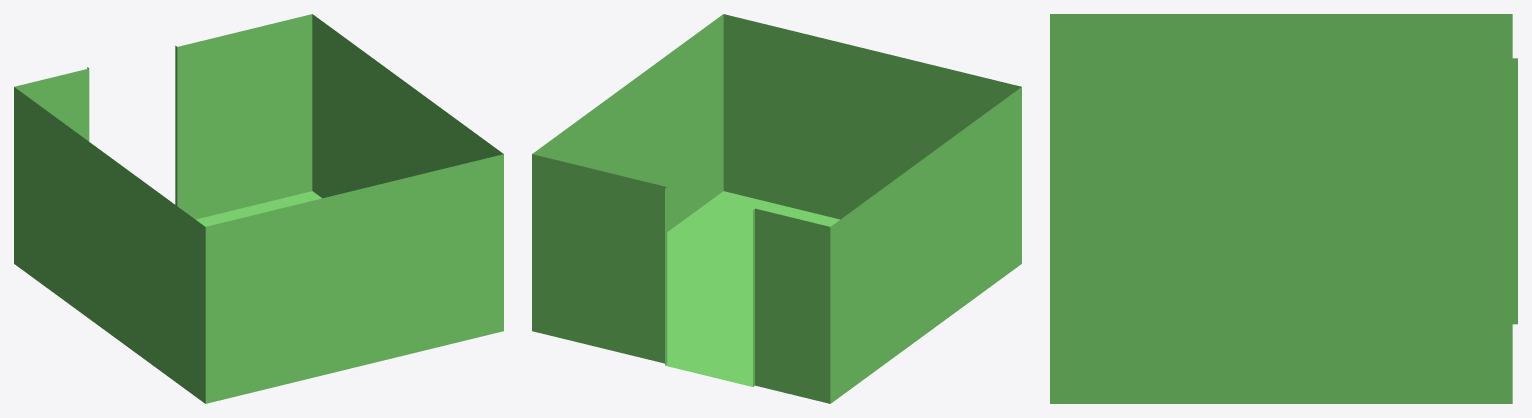
Rendered from rooms3_0.glb.
The picture shows the model from 3 angles, left to right: view 1: azimuth 30°, elevation 25°; view 2: azimuth 150°, elevation 25°; view 3: azimuth 270°, elevation 25°; orthographic projection. The views are drawn at different scales.
Parts seen in each view (by area): view 1: Cube.021; view 2: Cube.021; view 3: Cube.021.
Part boxes in pixels (x1=…): Cube.021: x1=14, y1=14, x2=503, y2=403; Cube.021: x1=532, y1=14, x2=1021, y2=403; Cube.021: x1=1050, y1=14, x2=1517, y2=403.
Size of the model in its own units: 3.6 by 2.04 by 4.04.
